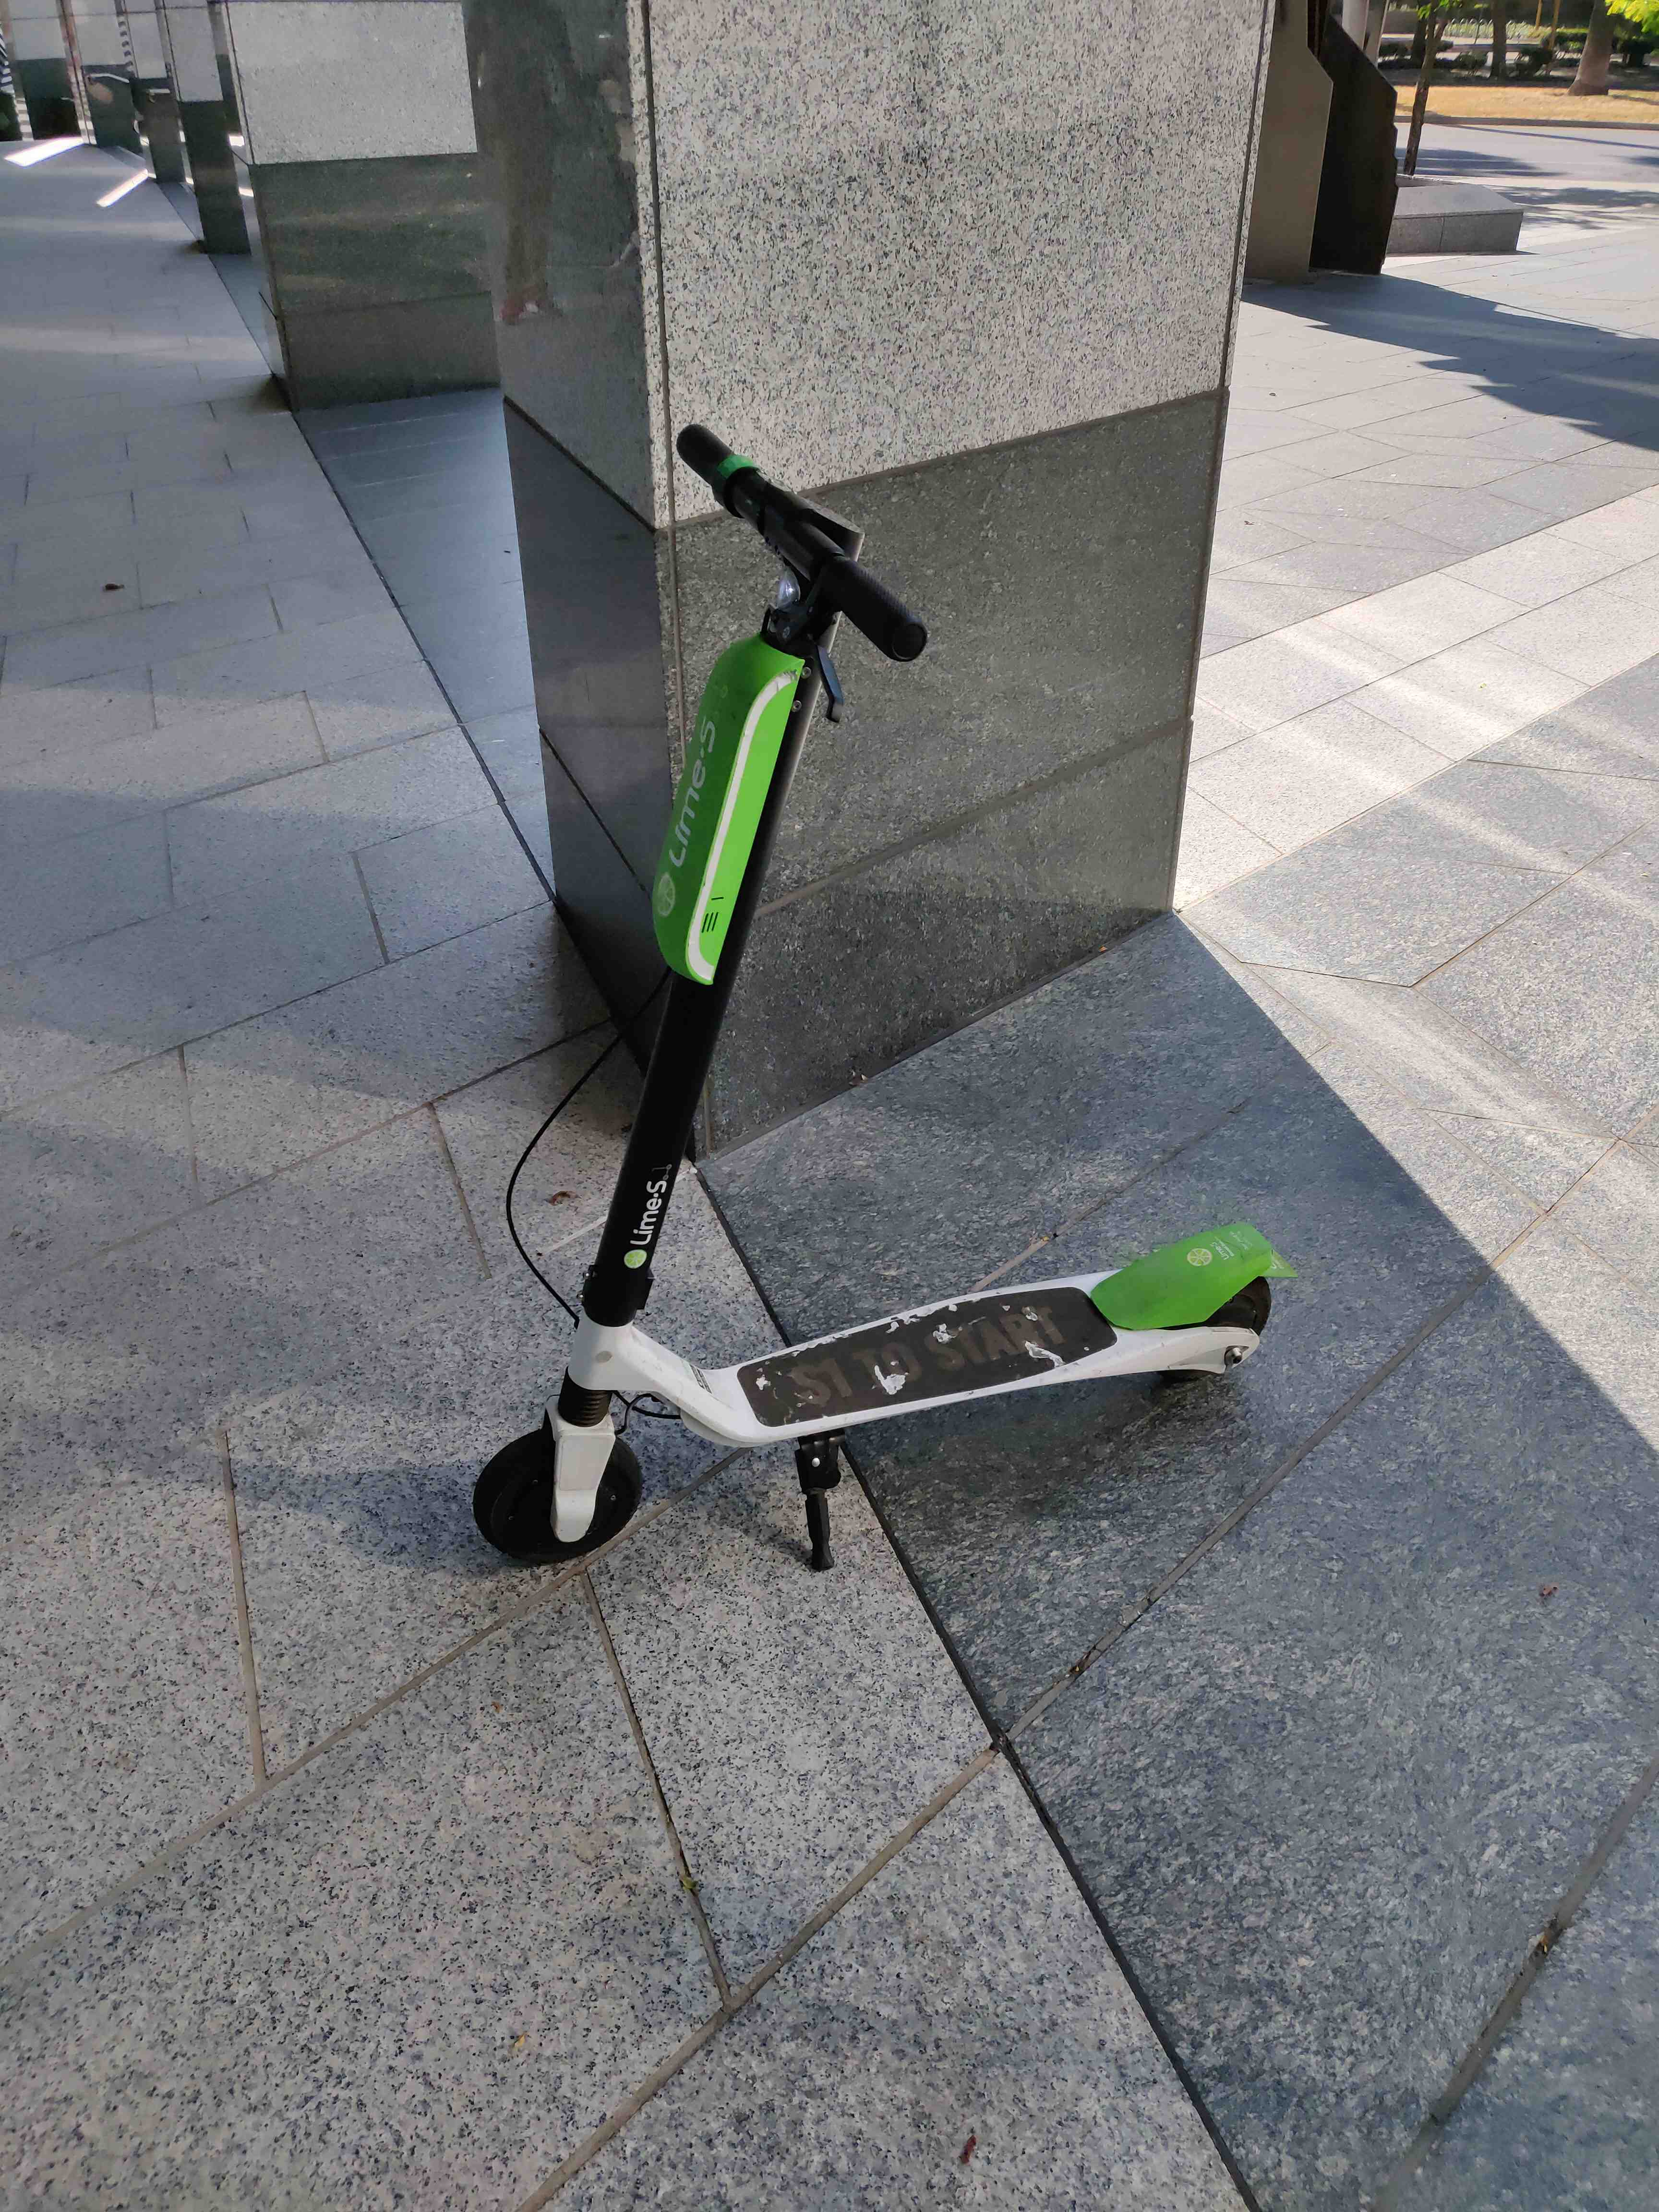scooter: (436, 378, 1310, 1613)
